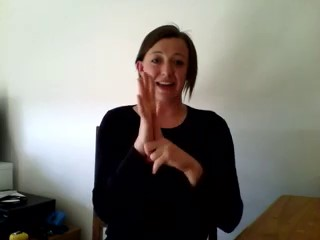L: (132, 69, 183, 180)
